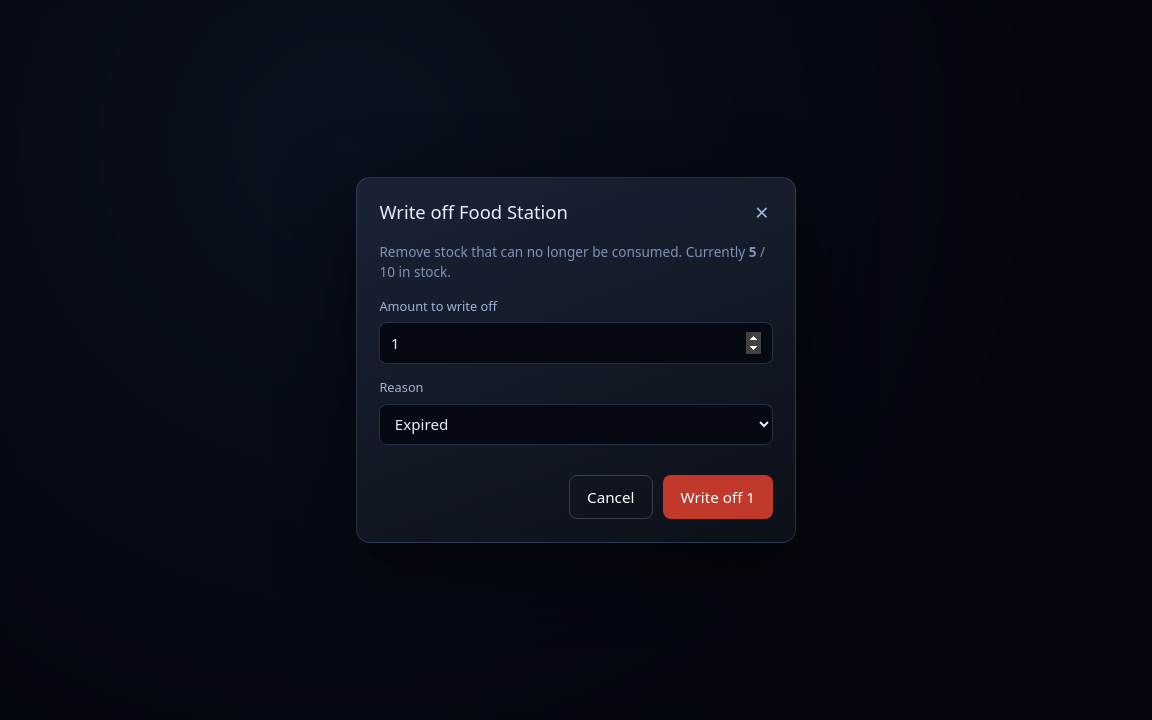
WriteOffModal amount clamping › clamps an amount above the remaining stock down to what is left
Replace the text in the number field labelled "Amount to write off" with "999" at (576, 343), box [379,322,773,364]
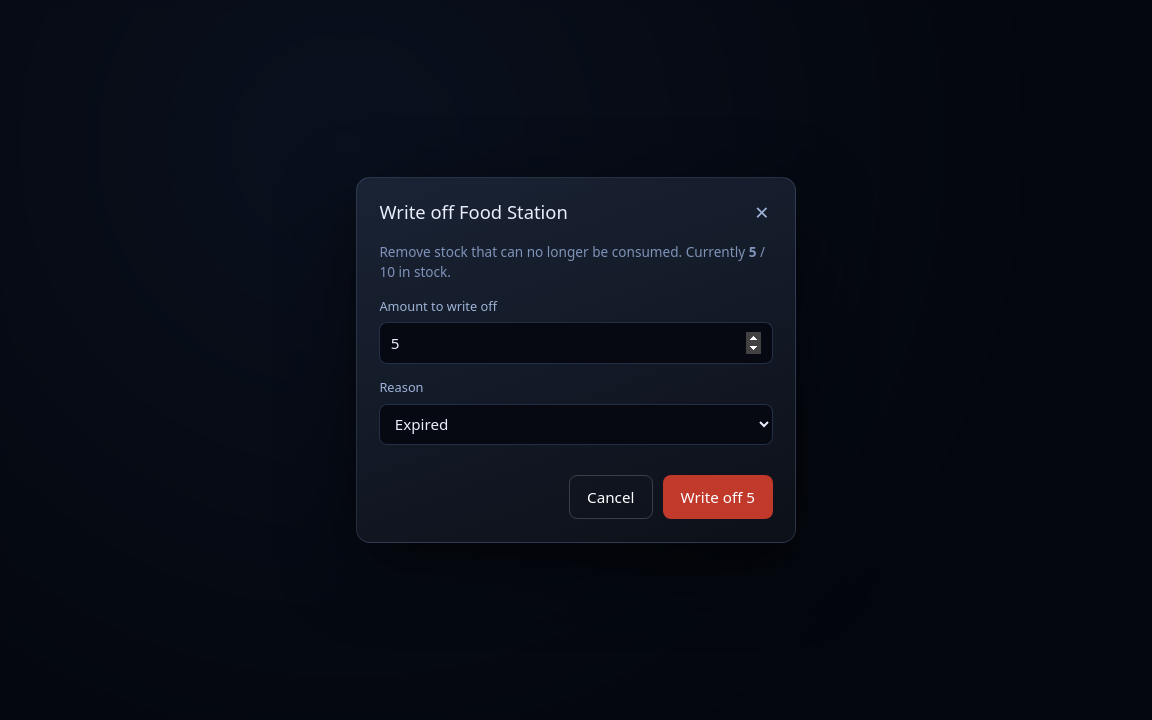
Now the number field labelled "Amount to write off" holds "5", box [379,322,773,364]
